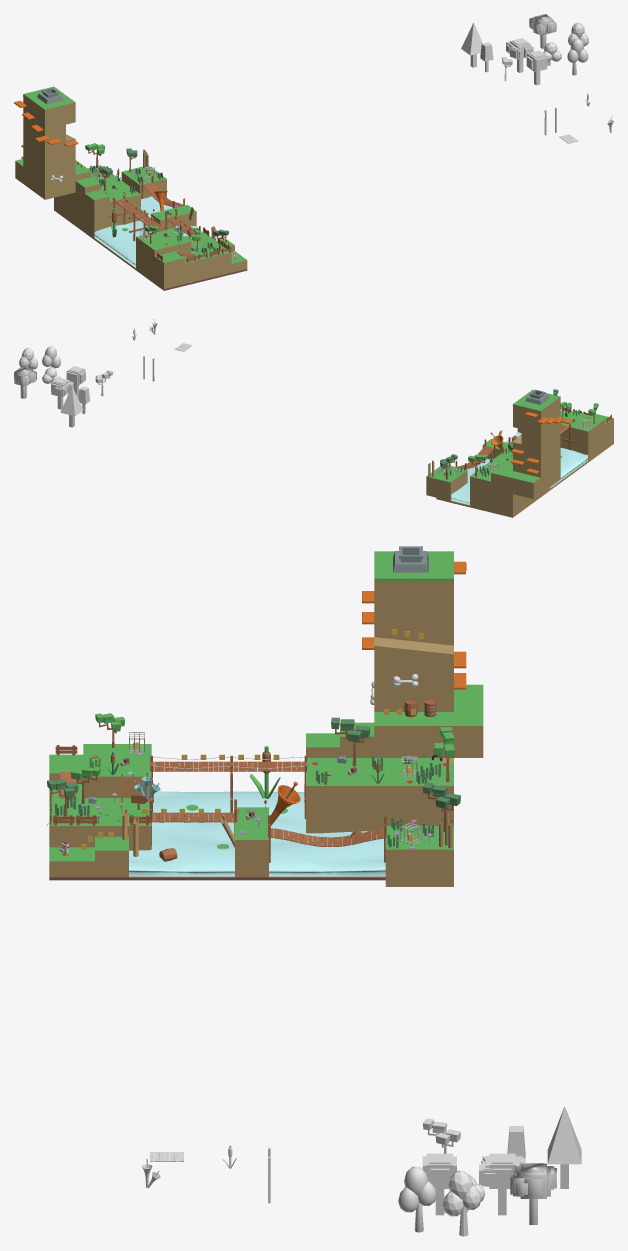
The model's file is LevelDesign.fbx.
The picture shows the model from 3 angles, top to bottom: view 1: azimuth 30°, elevation 25°; view 2: azimuth 150°, elevation 25°; view 3: azimuth 270°, elevation 25°; orthographic projection. The views are drawn at different scales.
Parts seen in each view (by area): view 1: Niveau, Cube.002, Cube.042, Cylinder.012, Cube.041, Cube.034, Cube.061, Cube.128, Cube.039; view 2: Niveau, Cube.002, Cube.042, Cube.128, Cube.034, Cube.041, Cube.039, Cylinder.012, Icosphere.004; view 3: Niveau, Cube.002, Cube.042, Cube.061, Cylinder.012, Cube.043, Cube.034, Cube.041, Icosphere.004, Cube.128, Cube.039.
Part boxes in pixels (left/top/right/bottom): Niveau: left=15, top=86, right=247, bottom=290; Cube.002: left=94, top=196, right=211, bottom=267; Cube.042: left=529, top=14, right=556, bottom=48; Cylinder.012: left=567, top=38, right=588, bottom=75; Cube.041: left=506, top=38, right=533, bottom=59; Cube.034: left=461, top=22, right=482, bottom=55; Cube.061: left=114, top=198, right=166, bottom=231; Cube.128: left=14, top=95, right=78, bottom=147; Cube.039: left=526, top=50, right=547, bottom=71; Niveau: left=426, top=390, right=613, bottom=517; Cube.002: left=451, top=432, right=587, bottom=504; Cube.042: left=14, top=367, right=36, bottom=398; Cube.128: left=511, top=412, right=572, bottom=465; Cube.034: left=60, top=386, right=83, bottom=416; Cube.041: left=51, top=377, right=73, bottom=397; Cube.039: left=66, top=366, right=85, bottom=385; Cylinder.012: left=42, top=346, right=60, bottom=368; Icosphere.004: left=19, top=348, right=38, bottom=369; Niveau: left=49, top=551, right=483, bottom=886; Cube.002: left=129, top=791, right=385, bottom=876; Cube.042: left=510, top=1163, right=556, bottom=1224; Cube.061: left=150, top=761, right=306, bottom=771; Cylinder.012: left=398, top=1166, right=436, bottom=1232; Cube.043: left=268, top=815, right=386, bottom=862; Cube.034: left=547, top=1106, right=581, bottom=1164; Cube.041: left=479, top=1153, right=525, bottom=1188; Icosphere.004: left=442, top=1170, right=481, bottom=1216; Cube.128: left=362, top=561, right=466, bottom=689; Cube.039: left=422, top=1153, right=456, bottom=1188.
Size of the model in its own units: 20700 by 4537 by 9101.
